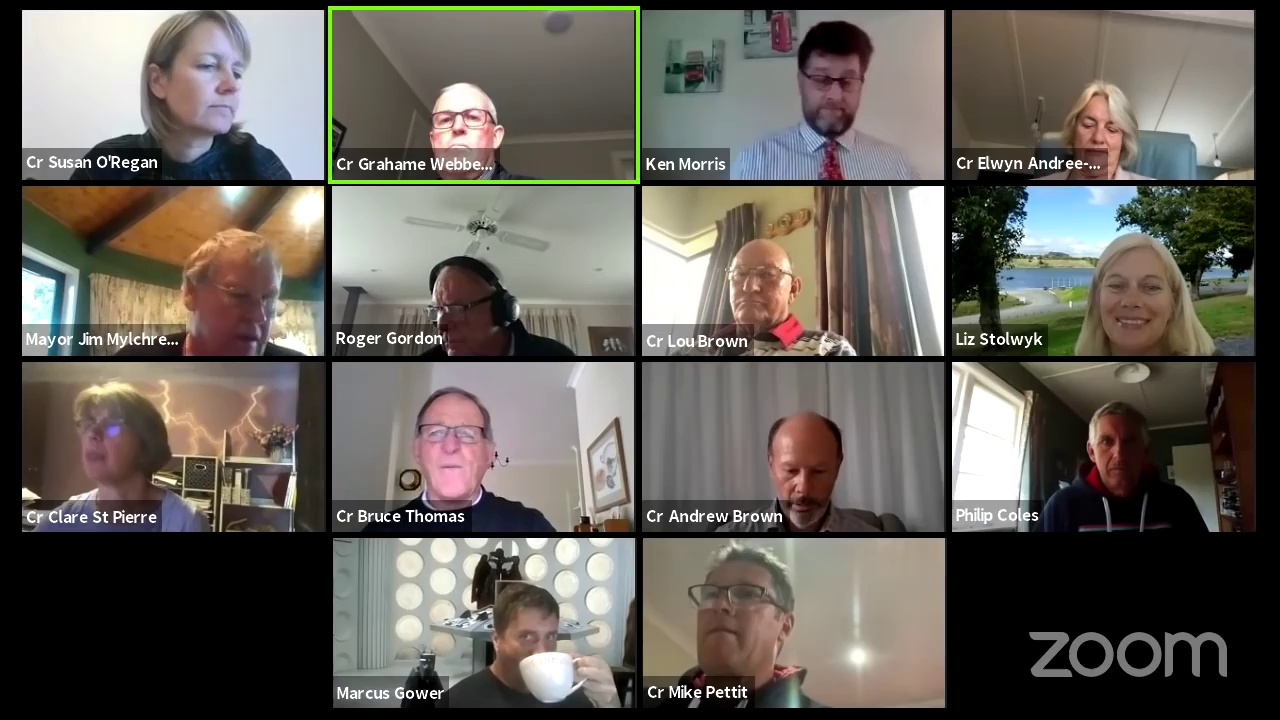Distracted: (174, 238, 288, 355), (147, 16, 253, 132), (71, 394, 156, 485), (766, 420, 842, 520), (794, 35, 867, 139), (430, 262, 512, 346), (488, 596, 560, 675), (1069, 88, 1127, 167)
Not Distracted: (688, 548, 792, 675), (1088, 244, 1177, 344), (411, 397, 494, 498), (725, 237, 799, 328), (417, 92, 501, 169), (1086, 411, 1154, 484)
